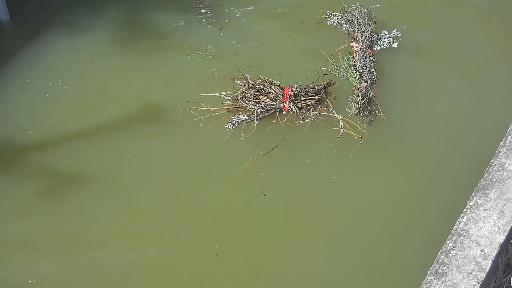twig: (306, 0, 388, 133), (146, 87, 339, 132)
